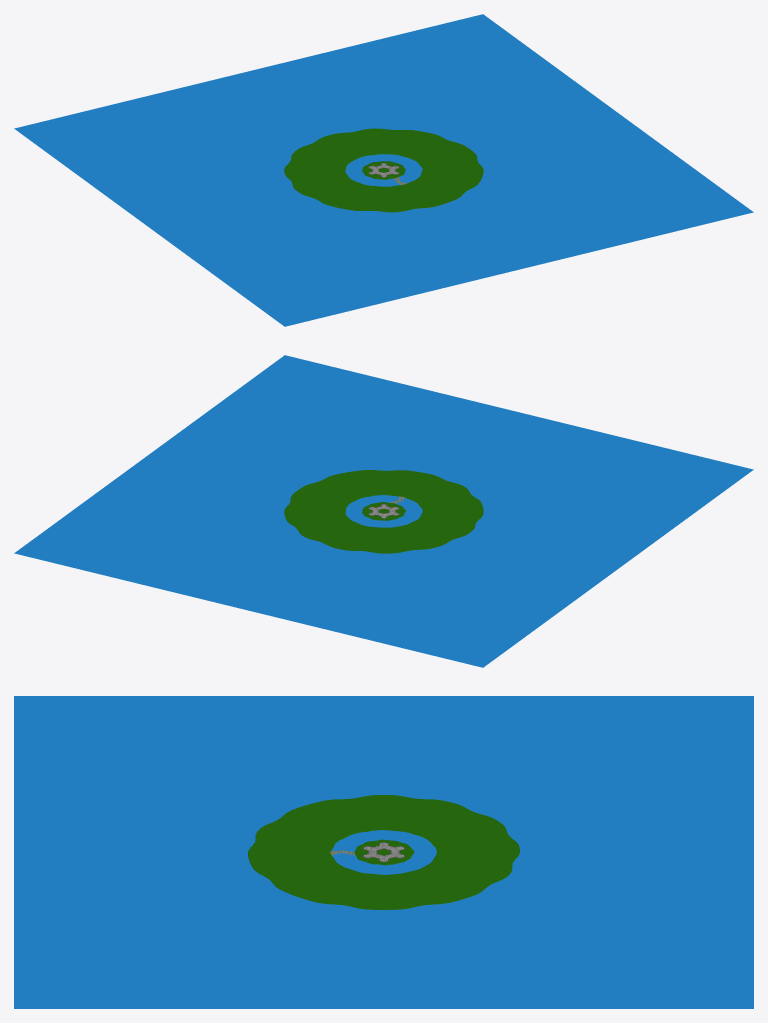
File: Land.glb
3 views of the same model, one above another, from view 1: azimuth 30°, elevation 25°; view 2: azimuth 150°, elevation 25°; view 3: azimuth 270°, elevation 25° (orthographic). The views are drawn at different scales.
Parts seen in each view (by area): view 1: Water, Island; view 2: Water, Island; view 3: Water, Island.
Boxes of the visible parts, x1,y1,x2,y2 form: Water: (14,14,753,326); Island: (284,128,483,212); Water: (14,355,753,667); Island: (284,470,483,553); Water: (14,696,753,1008); Island: (248,795,519,909).
Size of what is drawn, in the model's own units: 400 by 20.23 by 400.
